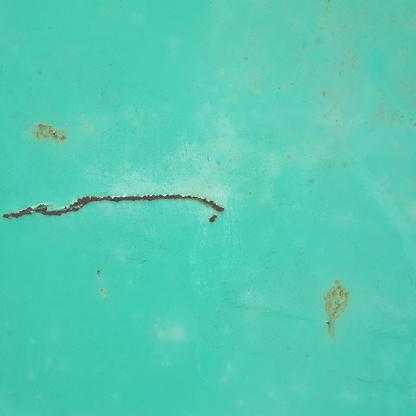crack: (4, 188, 225, 224)
